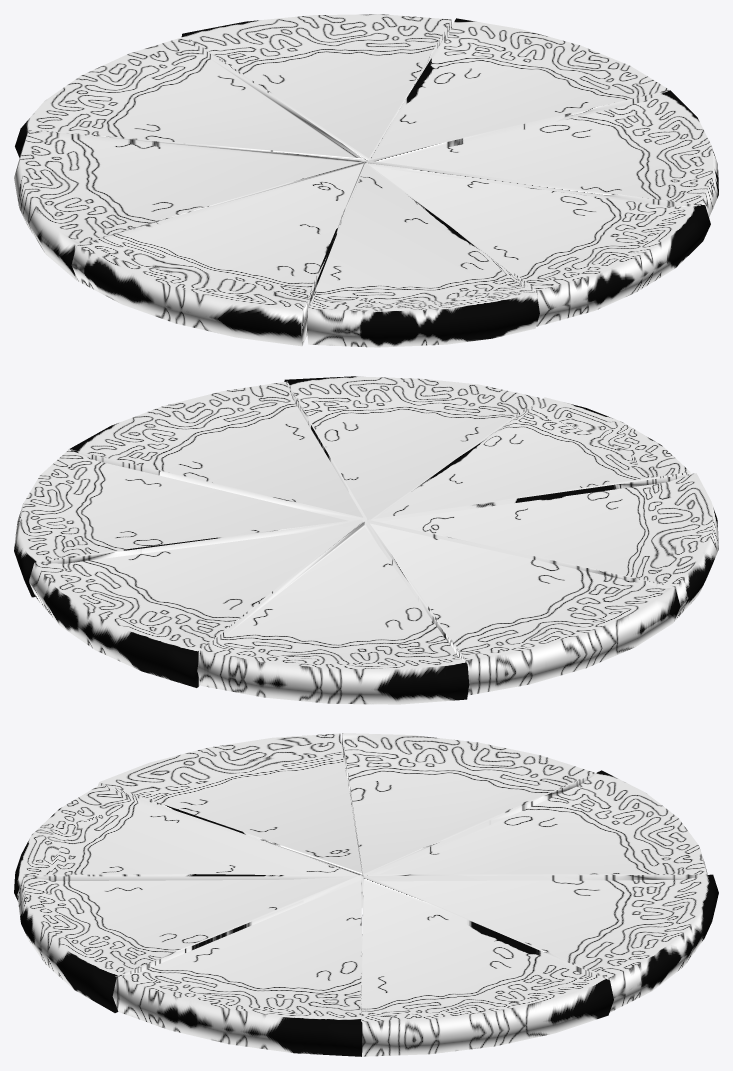
The model's file is Pizza.glb.
3 views of the same model, one above another, from view 1: azimuth 30°, elevation 25°; view 2: azimuth 150°, elevation 25°; view 3: azimuth 270°, elevation 25° (orthographic). The views are drawn at different scales.
Parts seen in each view (by area): view 1: slice.007, slice.006, slice.003, slice.005, slice.002, slice.004, slice, slice.001; view 2: slice.004, slice.005, slice.001, slice.007, slice, slice.002, slice.003, slice.006; view 3: slice, slice.002, slice.001, slice.003, slice.007, slice.004, slice.005, slice.006.
Boxes of the visible parts, left/top/right/bottom form: slice.007: left=71, top=161, right=364, bottom=346; slice.006: left=307, top=164, right=539, bottom=347; slice.003: left=366, top=163, right=710, bottom=326; slice.005: left=14, top=130, right=366, bottom=280; slice.002: left=368, top=90, right=718, bottom=217; slice.004: left=15, top=36, right=364, bottom=159; slice: left=369, top=18, right=669, bottom=160; slice.001: left=181, top=14, right=451, bottom=162; slice.004: left=197, top=521, right=469, bottom=704; slice.005: left=367, top=519, right=680, bottom=695; slice.001: left=29, top=519, right=362, bottom=687; slice.007: left=369, top=473, right=718, bottom=621; slice: left=14, top=449, right=364, bottom=597; slice.002: left=70, top=381, right=366, bottom=523; slice.003: left=284, top=376, right=540, bottom=519; slice.006: left=374, top=397, right=690, bottom=518; slice: left=361, top=876, right=613, bottom=1056; slice.002: left=112, top=874, right=362, bottom=1056; slice.001: left=365, top=874, right=718, bottom=1012; slice.003: left=17, top=876, right=362, bottom=1012; slice.007: left=98, top=733, right=362, bottom=907; slice.004: left=367, top=770, right=707, bottom=875; slice.005: left=342, top=733, right=594, bottom=898; slice.006: left=14, top=785, right=358, bottom=901.
Size of the model in its own units: 1.65 by 0.1017 by 1.67.
Materials: 1 (1 with a texture image).
